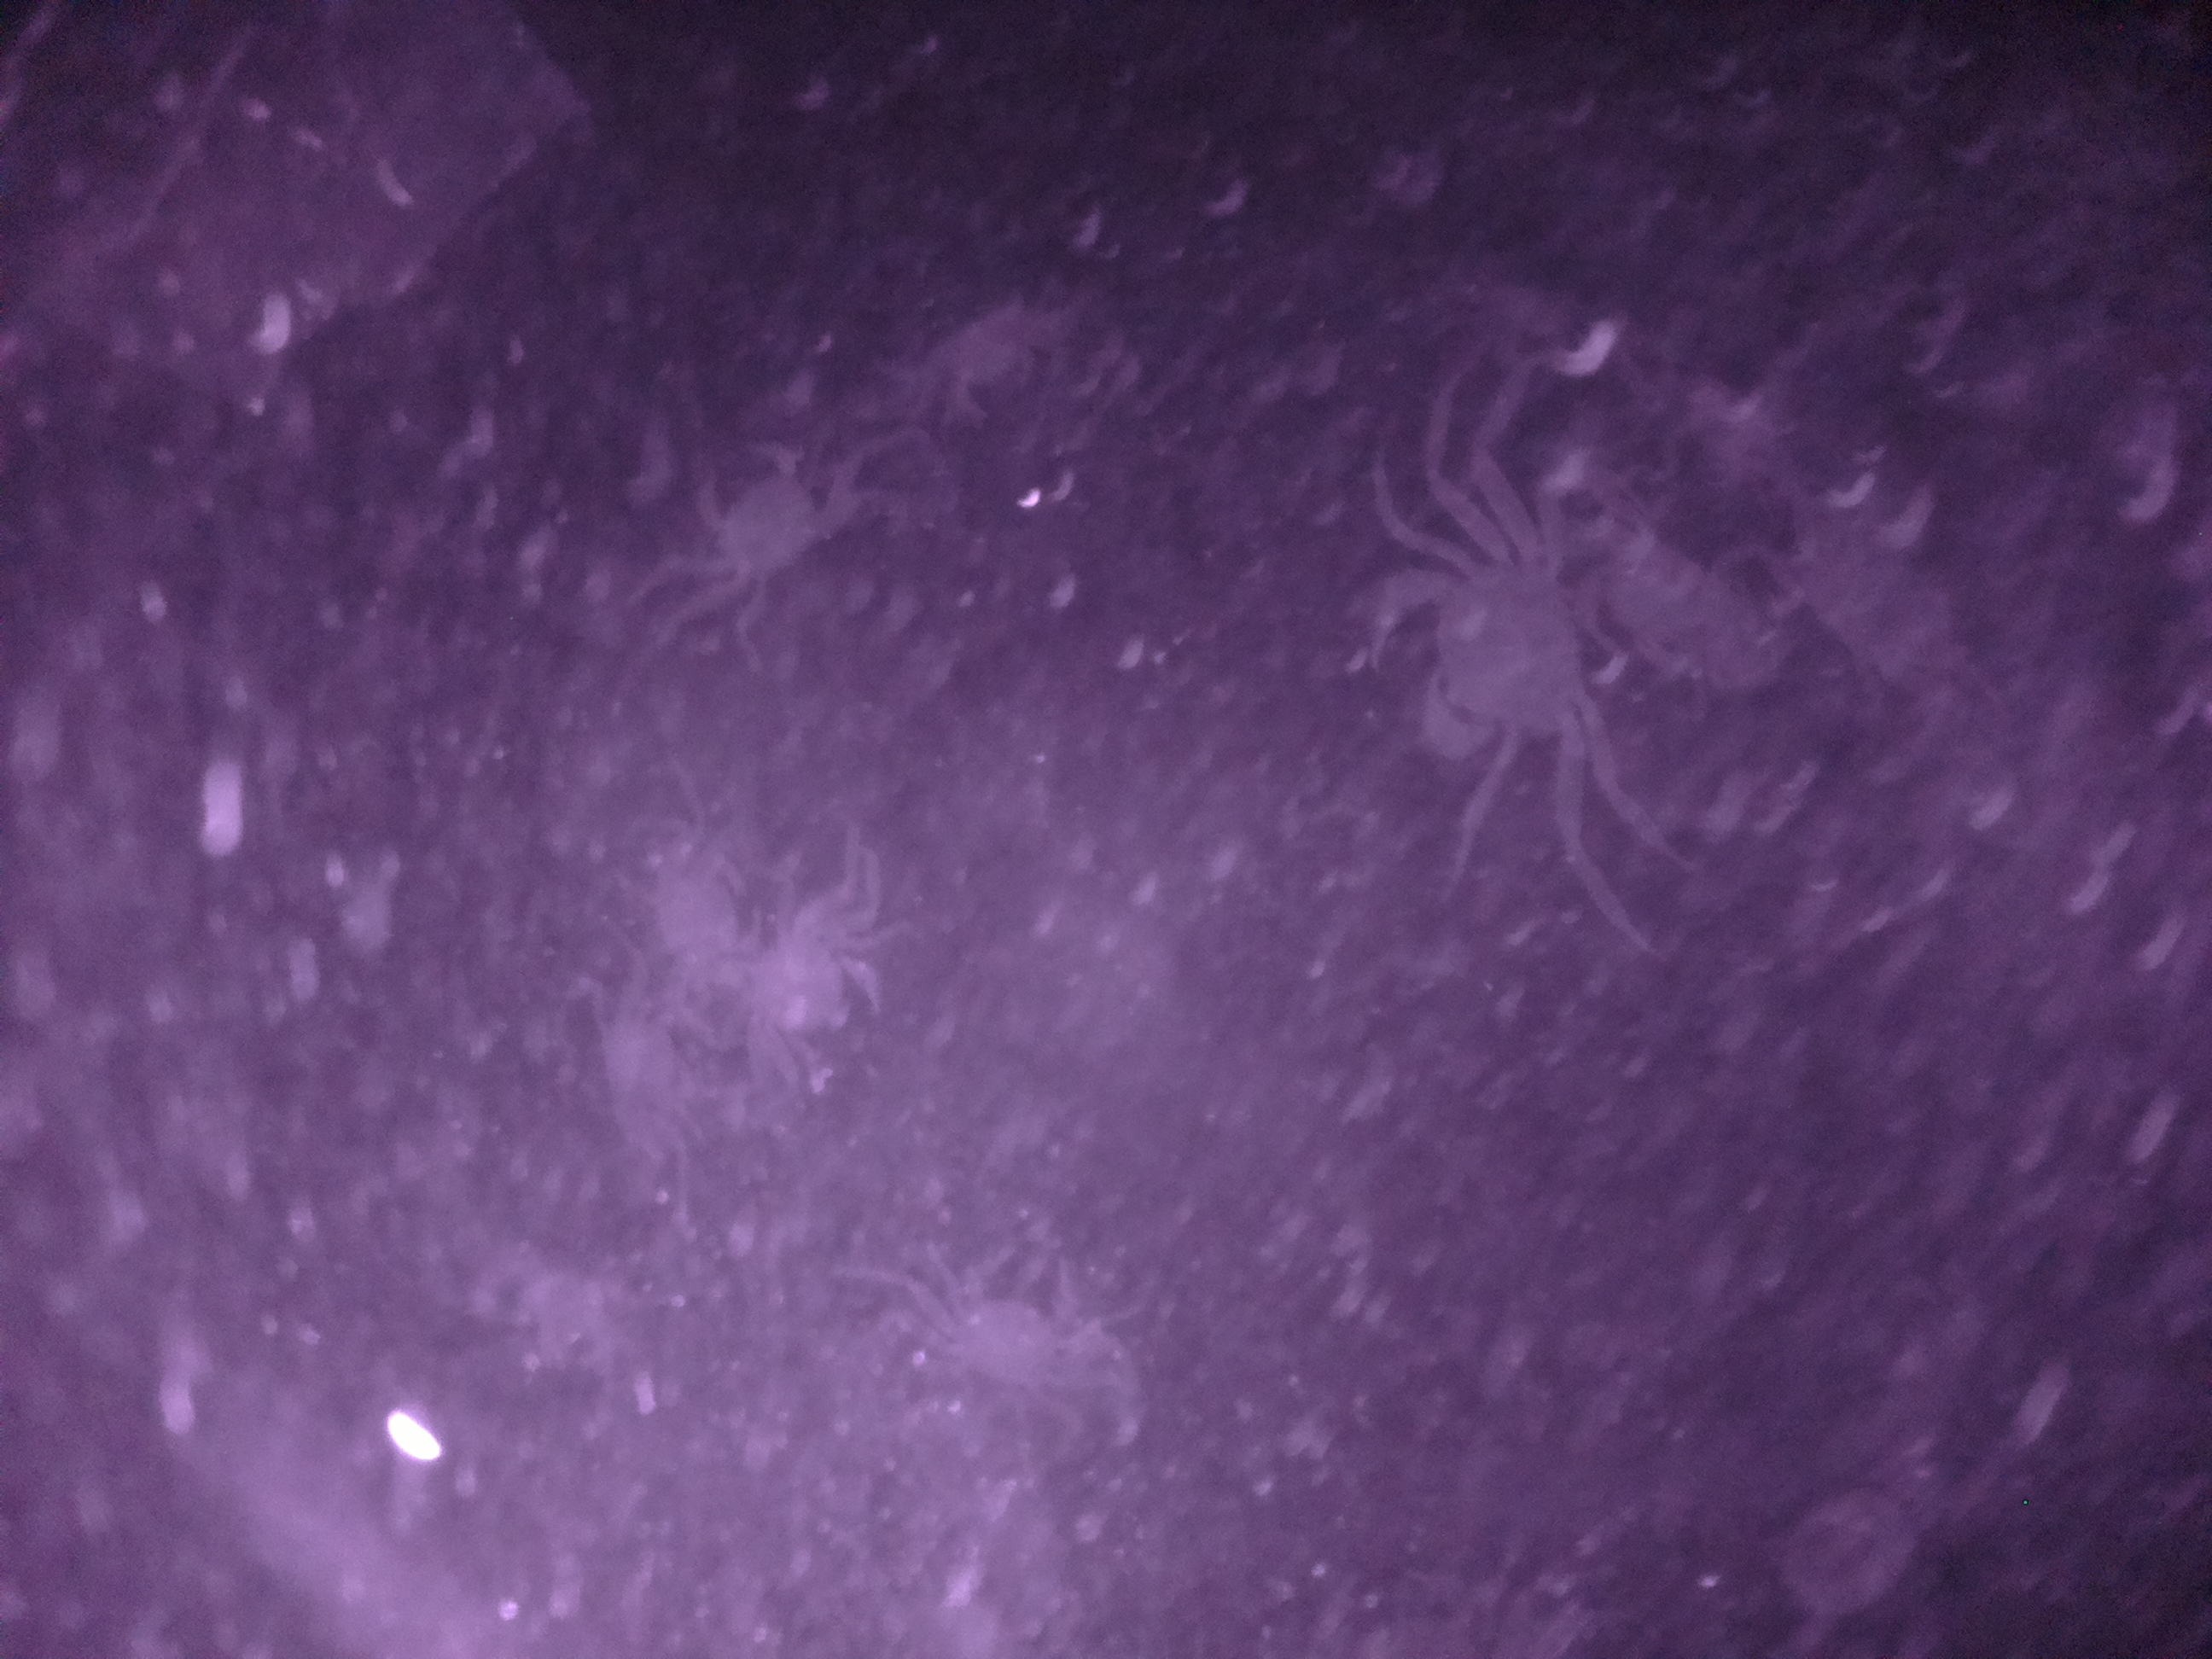Crab: (1341, 519, 1616, 817), (662, 437, 885, 617)
